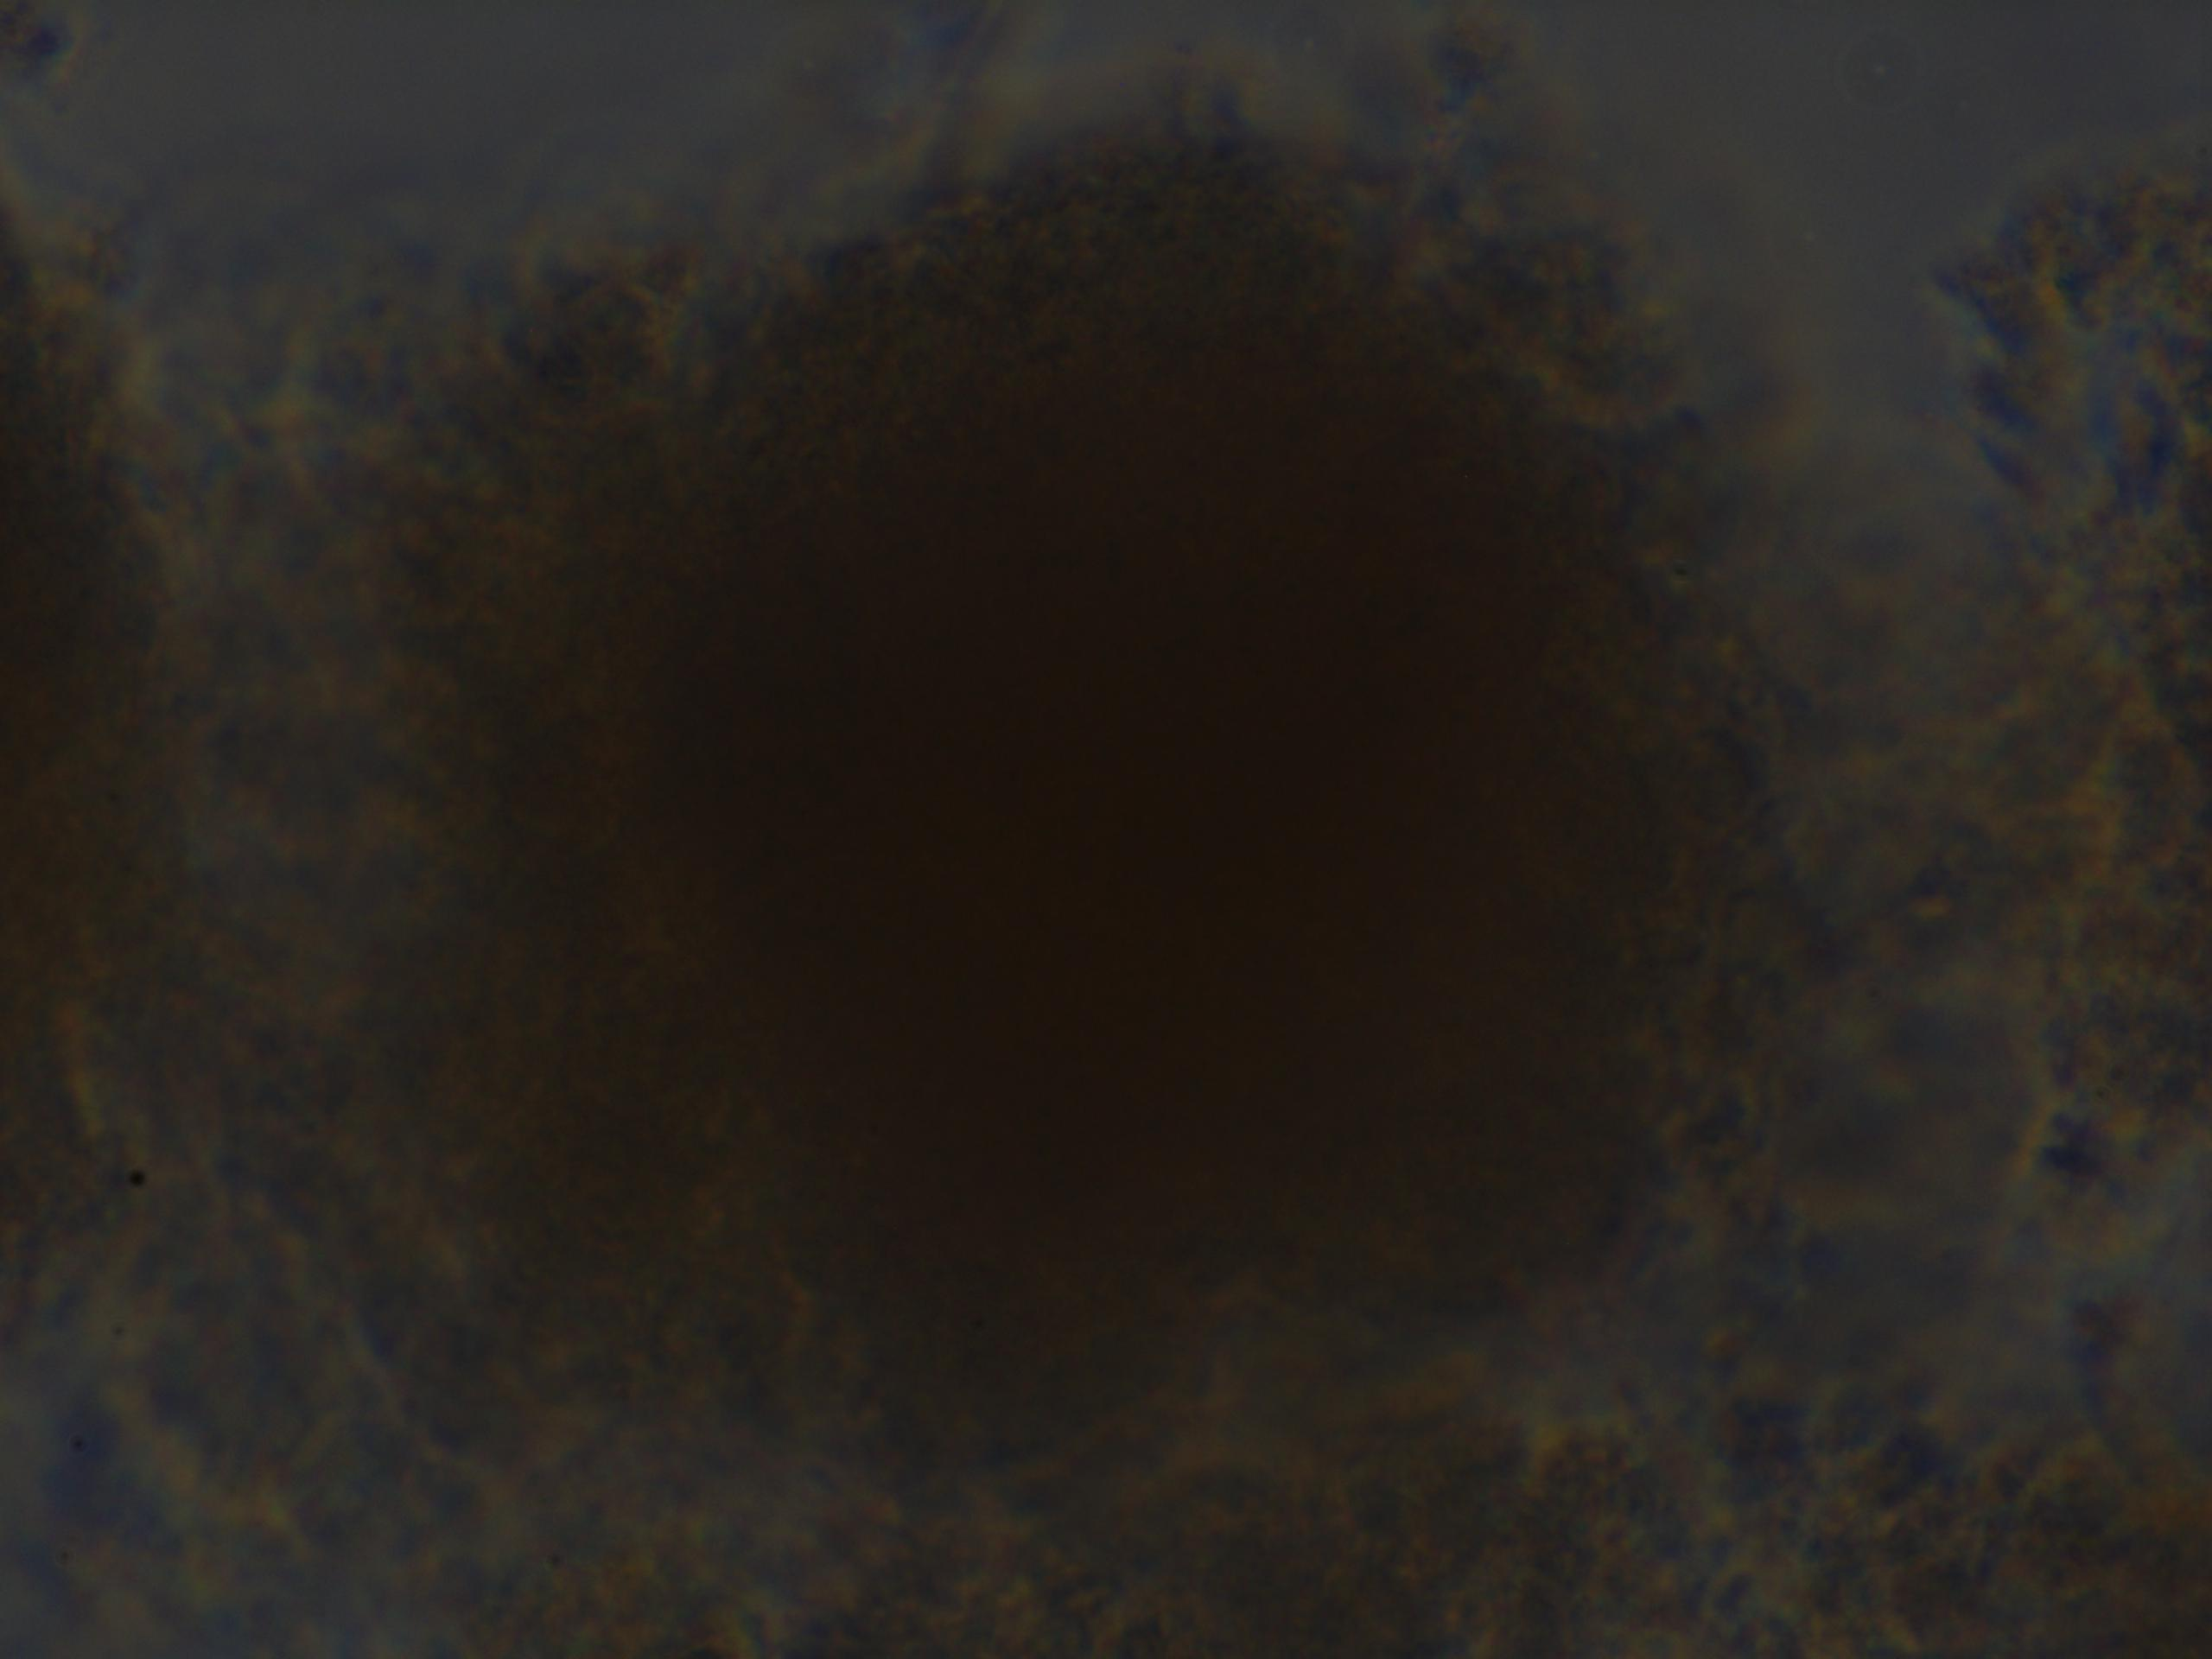spherical_floc: (319, 77, 1794, 1467)
